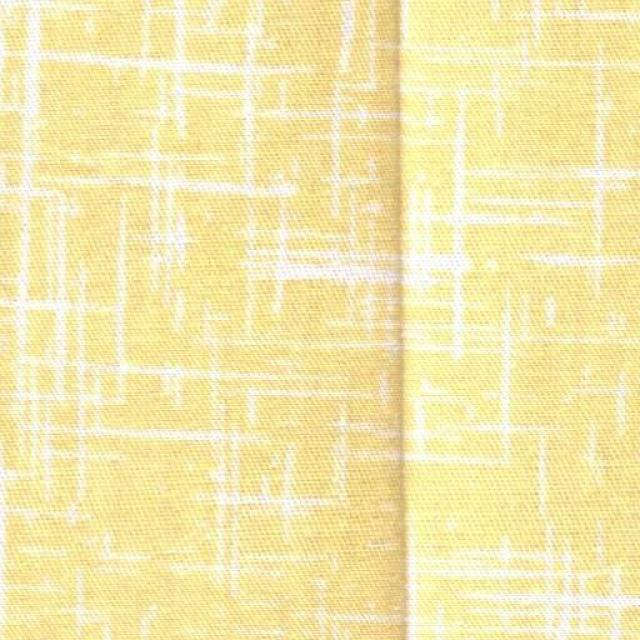broken_yarn: (390, 5, 410, 640)
